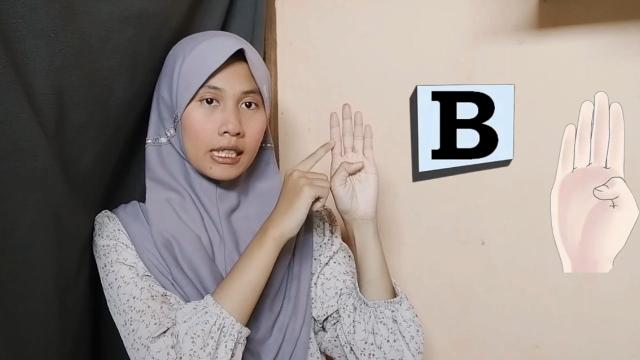B: (328, 103, 384, 226)
